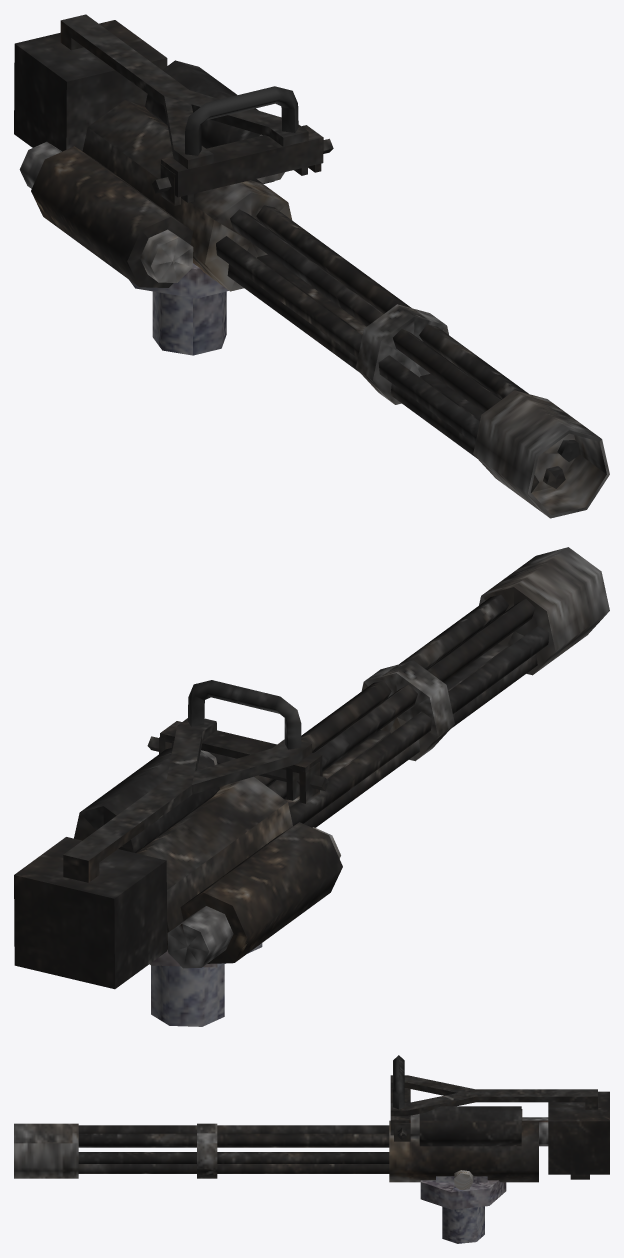
Rendered from miniGun.fbx.
The picture shows the model from 3 angles, top to bottom: view 1: azimuth 30°, elevation 25°; view 2: azimuth 150°, elevation 25°; view 3: azimuth 270°, elevation 25°; orthographic projection. The views are drawn at different scales.
Visible parts, largest first — view 1: miniGun; view 2: miniGun; view 3: miniGun.
Part boxes in pixels (<box>): miniGun: <box>14,14,609,518</box>; miniGun: <box>14,547,609,1026</box>; miniGun: <box>14,1055,609,1243</box>.
Size of the model in its own units: 0.0825 by 0.1141 by 0.3654.
